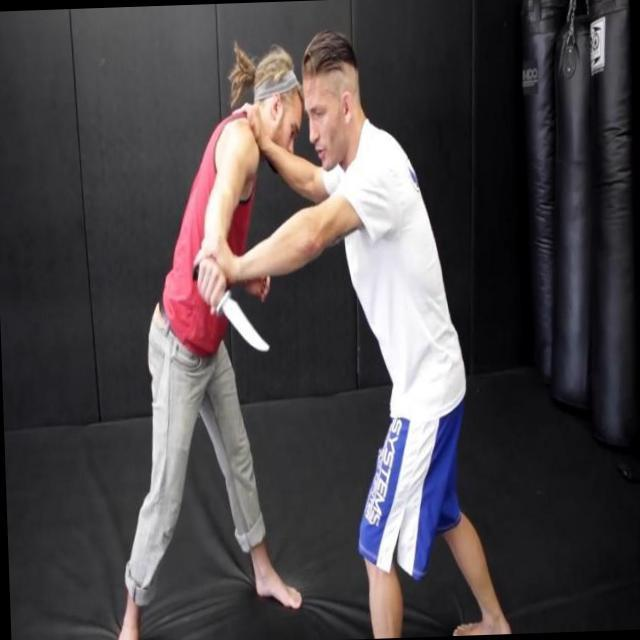Knife: (189, 252, 274, 366)
